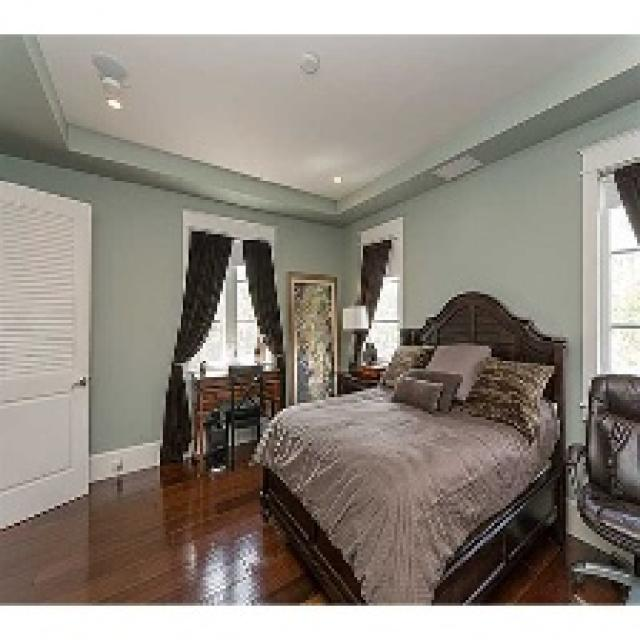Bed: (251, 288, 566, 603)
